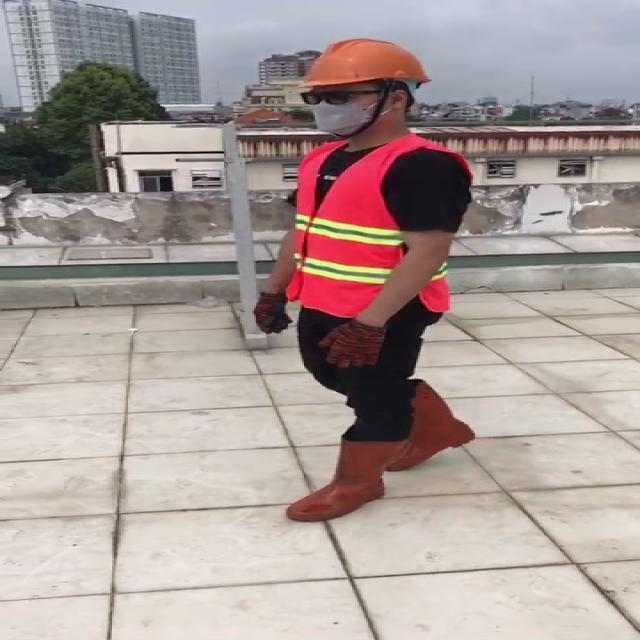boots: (285, 434, 411, 522), (385, 379, 475, 472)
gloves: (317, 318, 387, 369), (253, 291, 293, 333)
hard-hat: (296, 38, 432, 93)
mask: (306, 95, 386, 137)
person: (252, 36, 476, 523)
vest: (276, 121, 468, 306)
